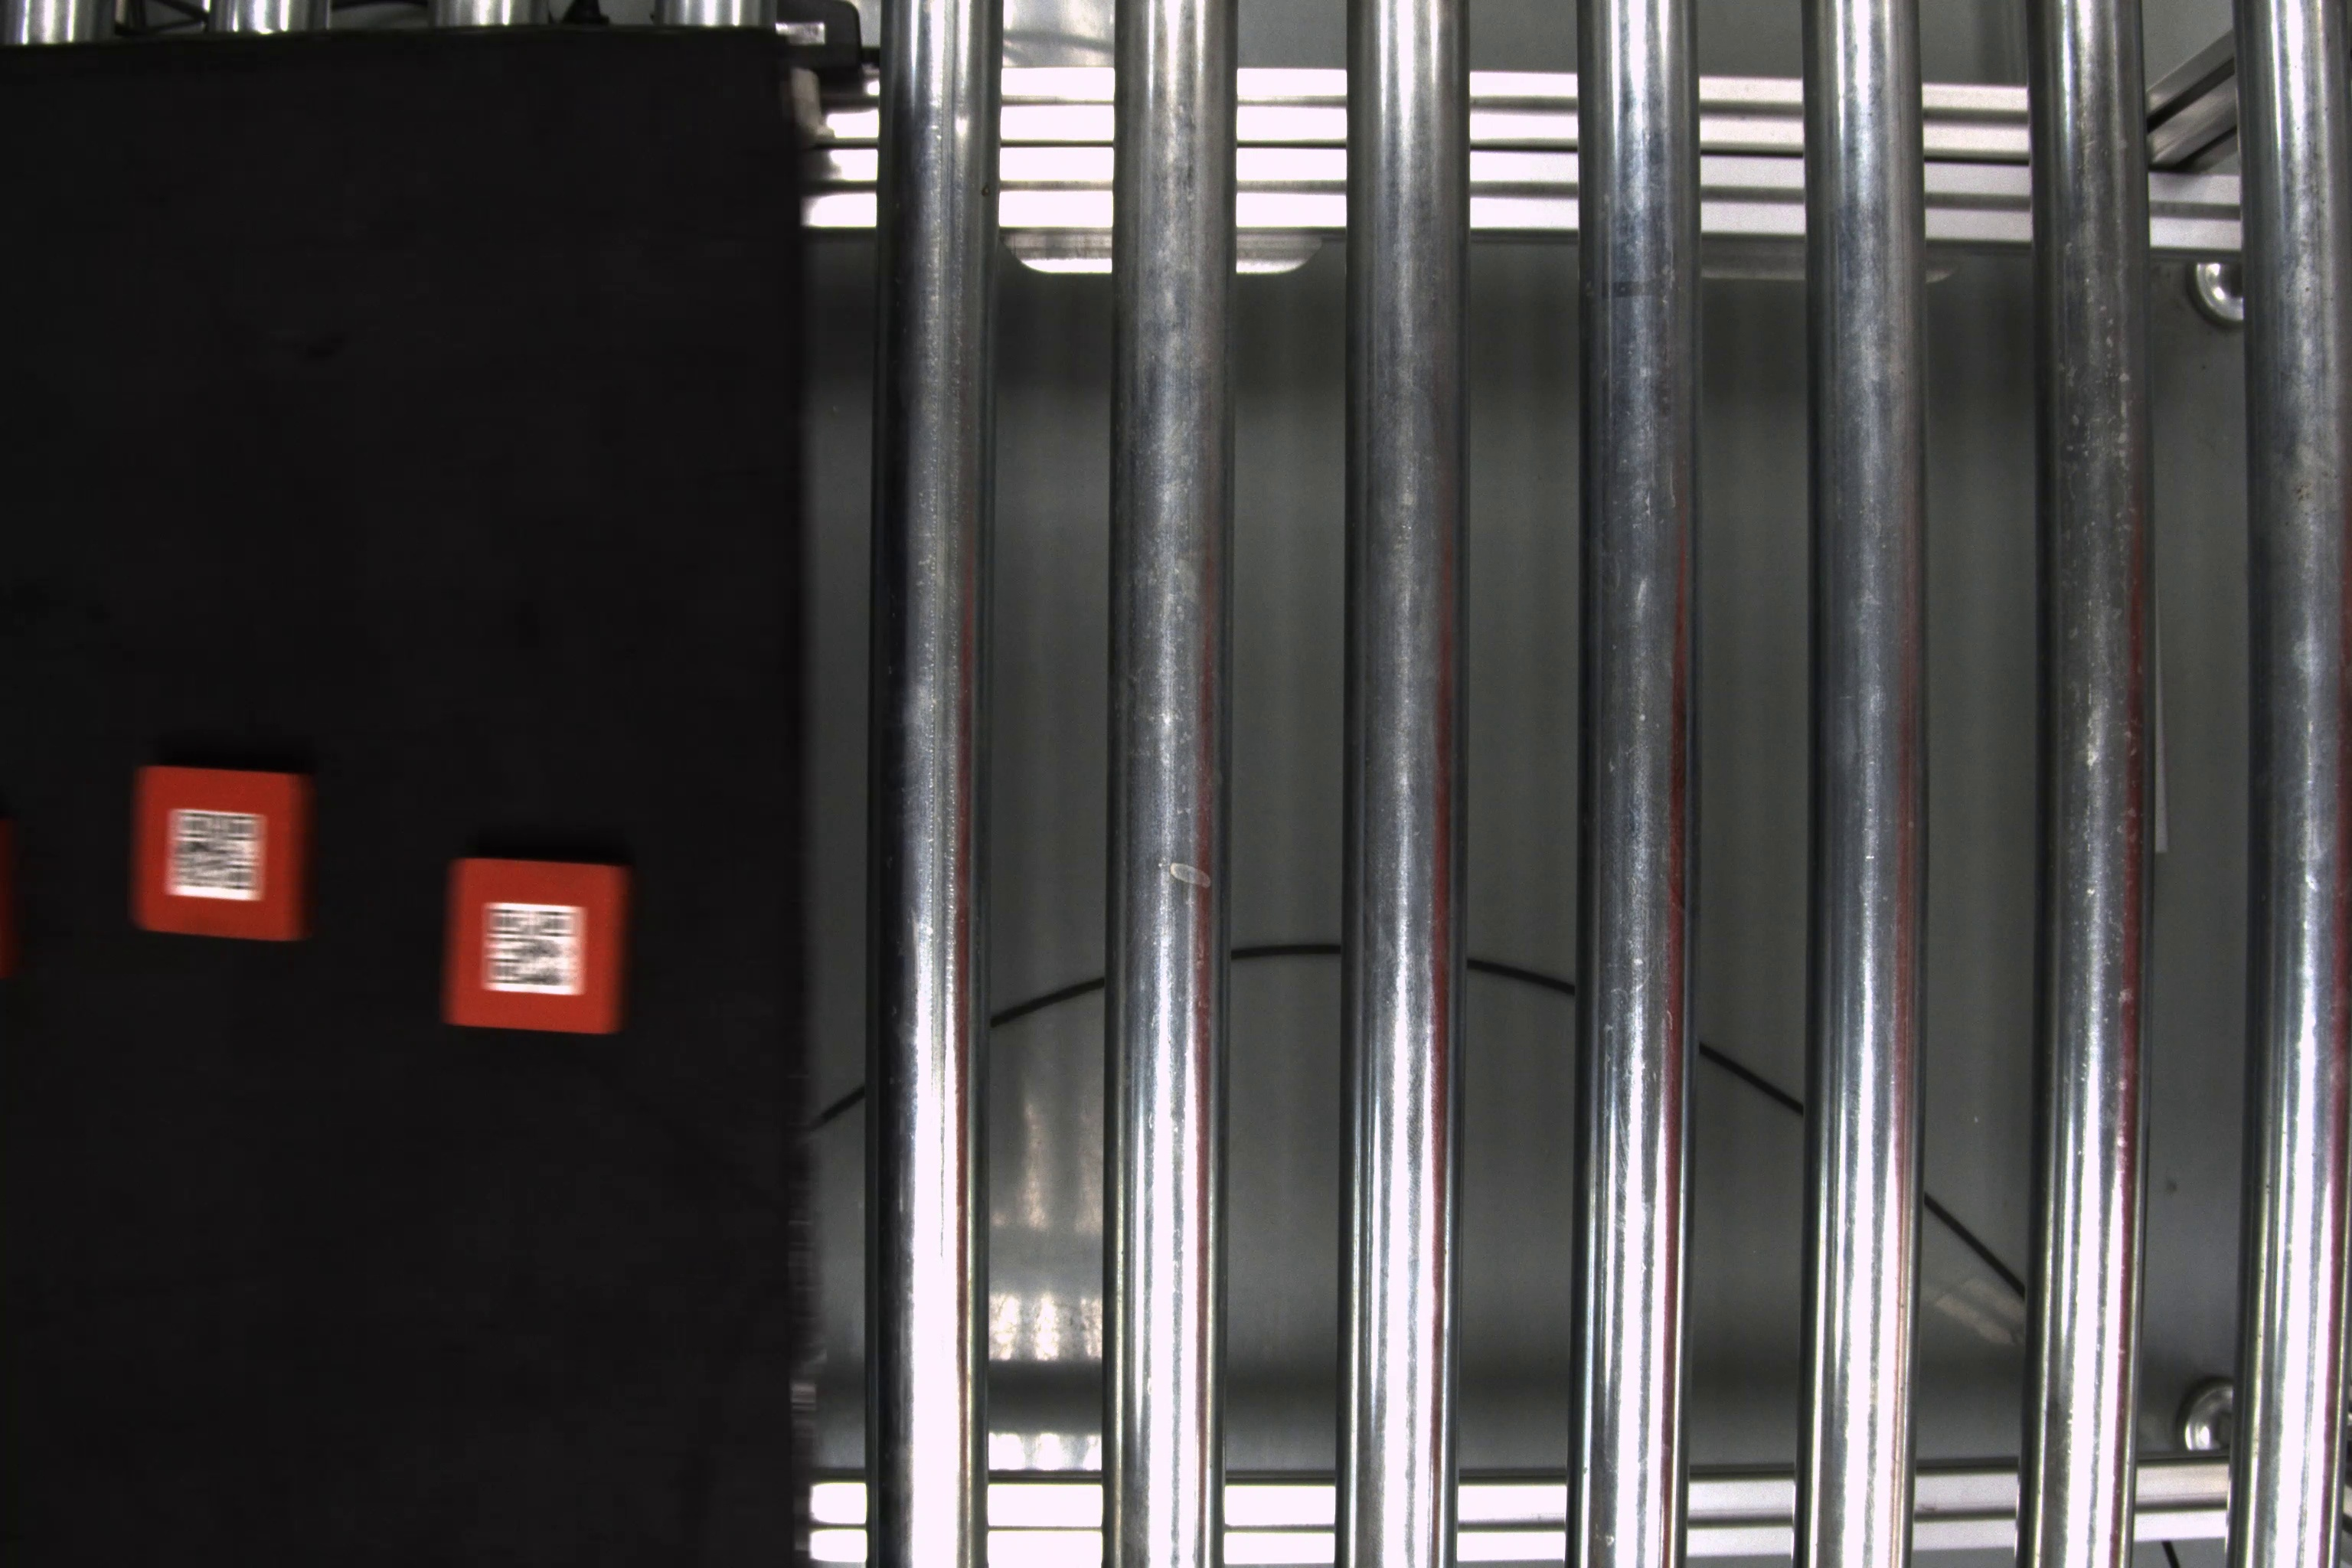wood: (129, 756, 325, 948), (444, 856, 640, 1039)
